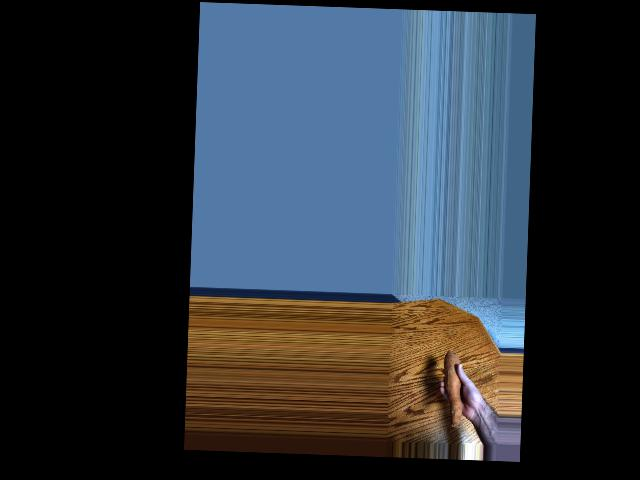sweet_potato: (439, 348, 466, 431)
